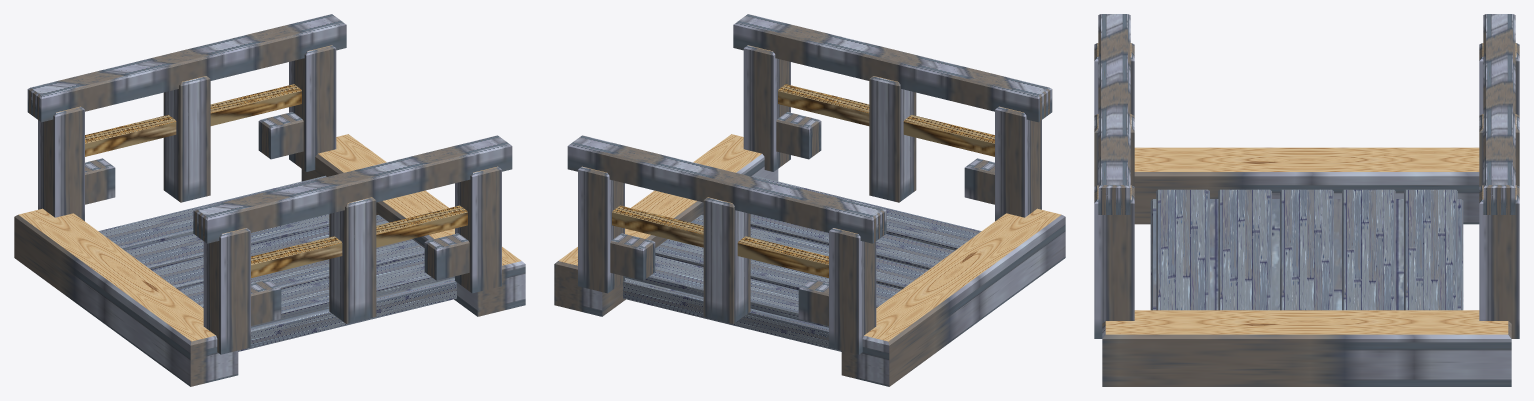
File: bridge.obj
The picture shows the model from 3 angles, left to right: view 1: azimuth 30°, elevation 25°; view 2: azimuth 150°, elevation 25°; view 3: azimuth 270°, elevation 25°; orthographic projection. The views are drawn at different scales.
Parts seen in each view (by area): view 1: Bridge; view 2: Bridge; view 3: Bridge.
Part boxes in pixels (left/top/right/bottom): Bridge: left=14, top=14, right=525, bottom=386; Bridge: left=554, top=14, right=1065, bottom=386; Bridge: left=1094, top=14, right=1519, bottom=386.
Size of the model in its own units: 1.12 by 0.53 by 1.06.
1 material, 1 textured.
